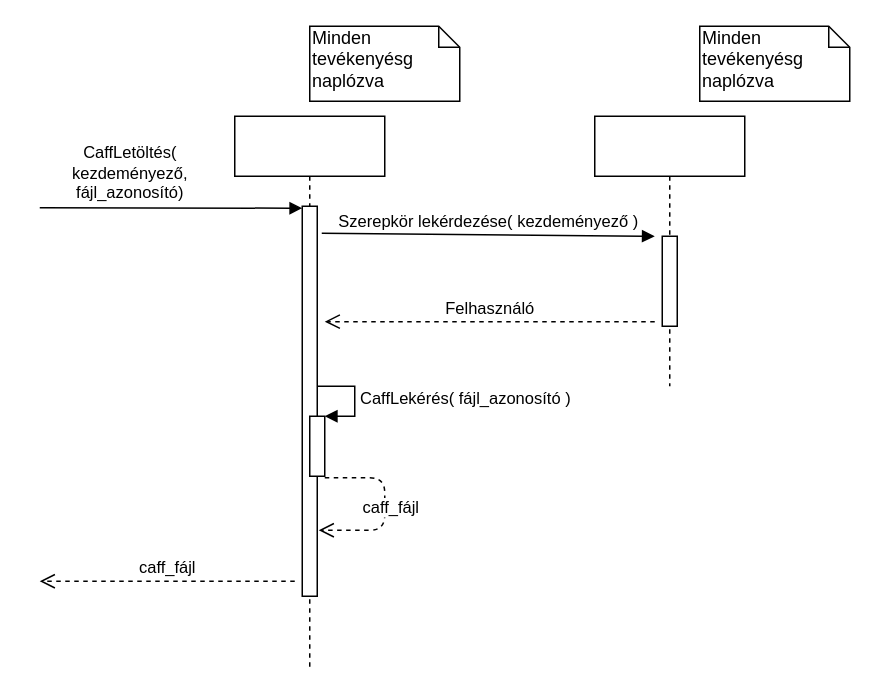
This 876x698 diagram has some shape labels left out. The box of each missing label's shape, as (x1, y1, x2, y2) in pixels:
c: CAFF Fájl Kezelő: (233, 115, 385, 671)
f: Felhasználói Adatkezelő: (593, 115, 745, 386)
